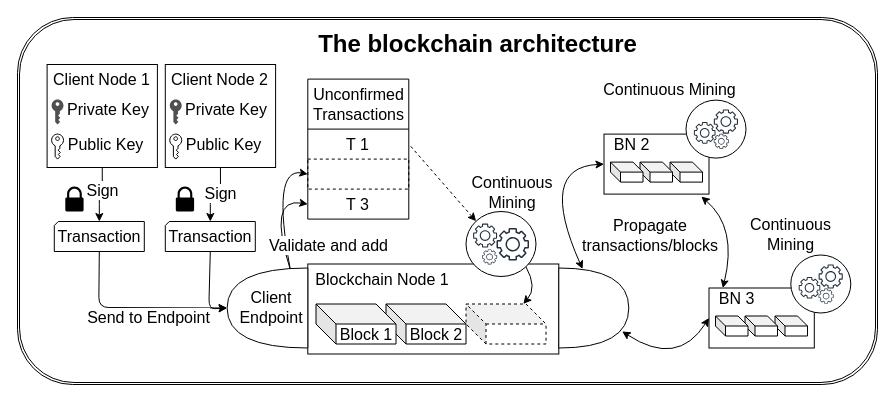
Some shapes in this 895 by 402 pixel diagram are drawn without their labels. Each missing label, with the centre of its shape:
Block 4: the point at 505,323
Network Endpoint: the point at 593,307
T 2: the point at 358,173
